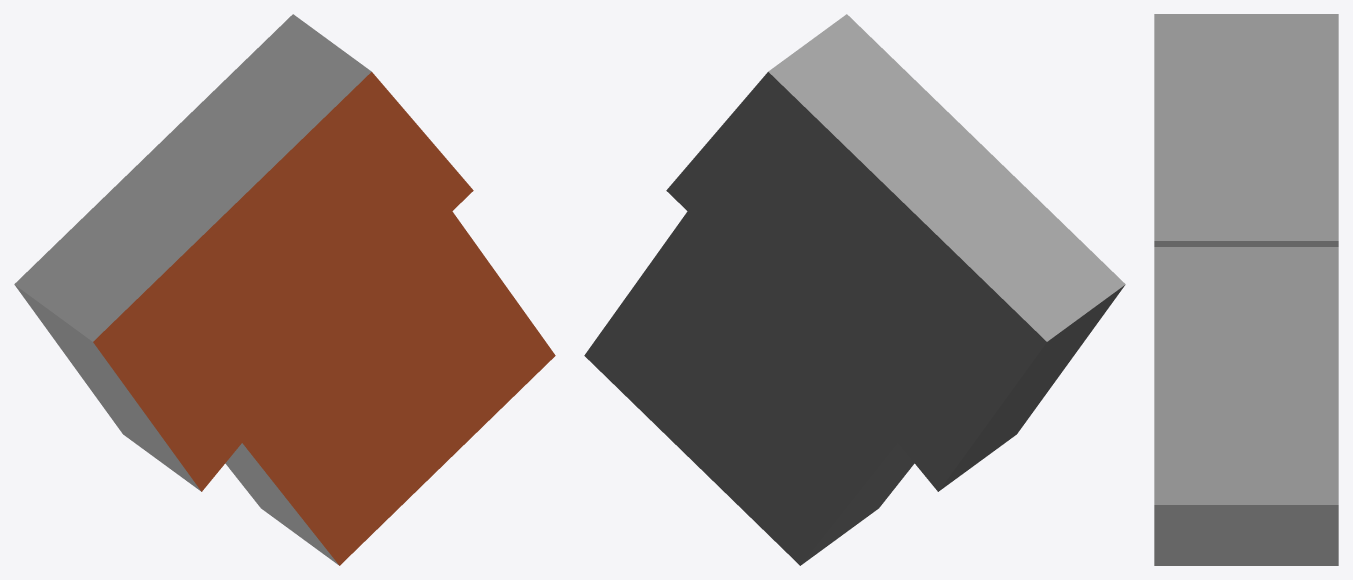
Rendered from construction_4218_assumed_A_Casa_h6m.obj.
3 views of the same model, side by side, from view 1: azimuth 30°, elevation 25°; view 2: azimuth 150°, elevation 25°; view 3: azimuth 270°, elevation 25° (orthographic). The views are drawn at different scales.
Visible parts, largest first — view 1: construction_4218_assumed_A_Casa; view 2: construction_4218_assumed_A_Casa; view 3: construction_4218_assumed_A_Casa.
Part boxes in pixels (bbox=[...]): construction_4218_assumed_A_Casa: bbox=[14, 14, 555, 565]; construction_4218_assumed_A_Casa: bbox=[584, 14, 1125, 565]; construction_4218_assumed_A_Casa: bbox=[1154, 14, 1338, 565].
Size of the model in its own units: 20.36 by 20.45 by 6.
